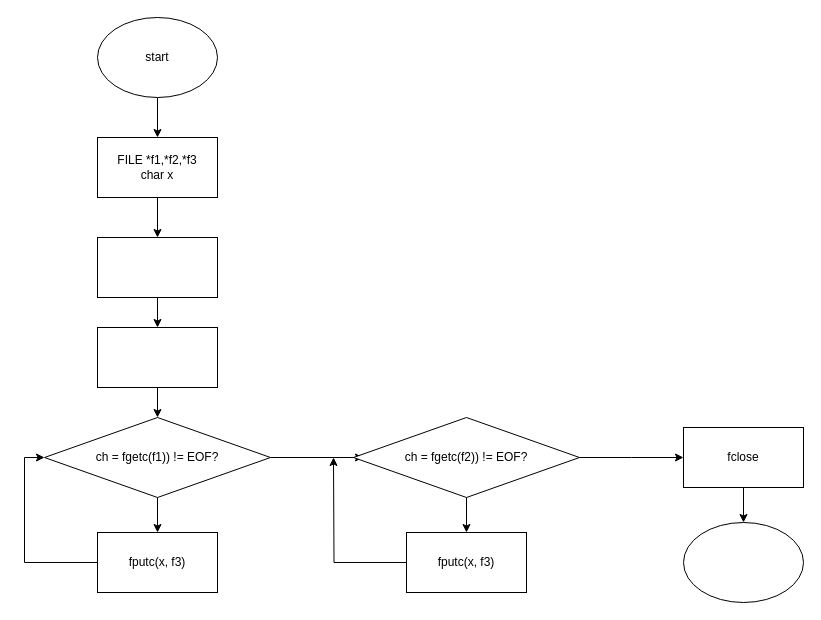
This 821x620 diagram has some shape labels left out. The shapes that lost their labels are listed below. From the top down, each one's box as (x1, y1, x2, y2) in pixels, then its label:
(96, 236, 218, 298): mo de doc f1 f2 mo de ghi f3
(96, 326, 218, 388): kiem tra xem cac file co mo duoc khong
(682, 522, 804, 602): end
